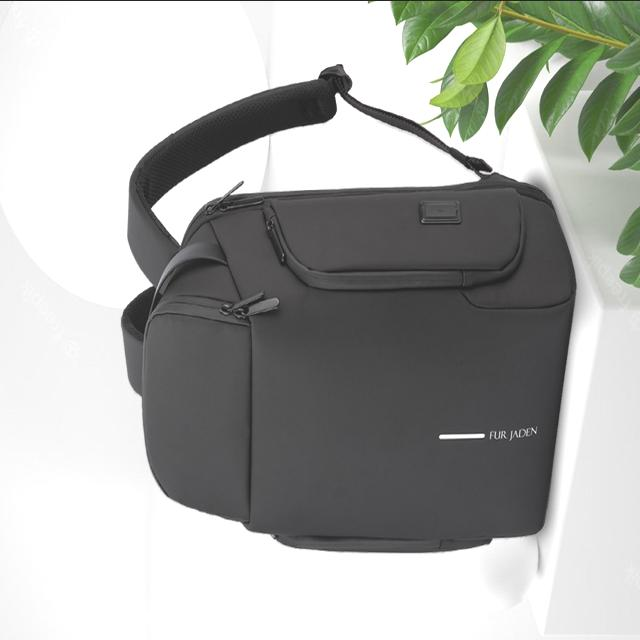backpack: (122, 65, 578, 555)
